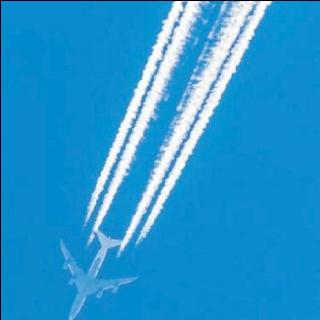Contrails: (76, 0, 272, 254)
